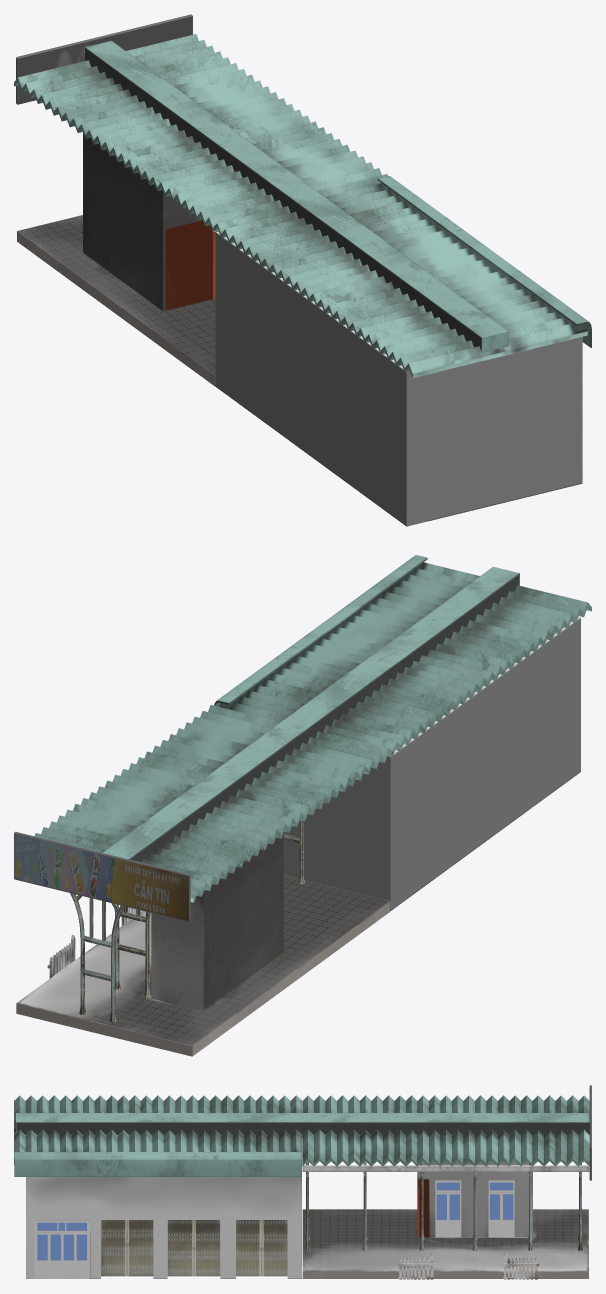
The model's file is cantin.fbx.
3 renders of one model, top to bottom at view 1: azimuth 30°, elevation 25°; view 2: azimuth 150°, elevation 25°; view 3: azimuth 270°, elevation 25°, orthographic. The views are drawn at different scales.
Parts seen in each view (by area): view 1: CANTIN; view 2: CANTIN; view 3: CANTIN.
Boxes of the visible parts, bbox=[...] form: CANTIN: bbox=[14, 14, 591, 526]; CANTIN: bbox=[14, 555, 591, 1056]; CANTIN: bbox=[14, 1085, 591, 1279].
Bounding box in the file's own units: 799 × 770 × 3052.
